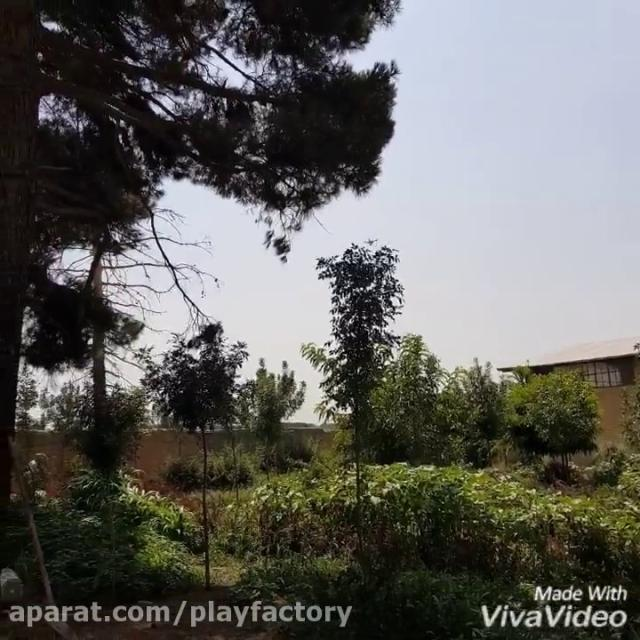drone: (361, 231, 381, 249)
